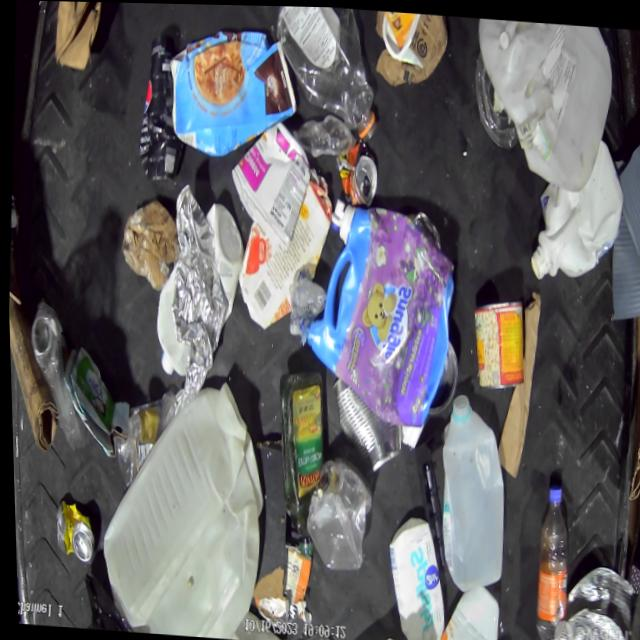can: (324, 375, 405, 482), (468, 295, 527, 391), (331, 136, 381, 207), (50, 497, 95, 563), (276, 540, 312, 621)
milk_jug: (89, 367, 273, 640), (509, 19, 618, 195), (430, 389, 511, 591), (525, 128, 629, 285), (472, 16, 568, 130), (379, 510, 446, 640), (430, 581, 500, 640)
non_white_jug: (297, 200, 461, 427), (161, 22, 304, 164)
plastic_bottle: (269, 5, 385, 146), (527, 480, 573, 640), (291, 112, 358, 158)
